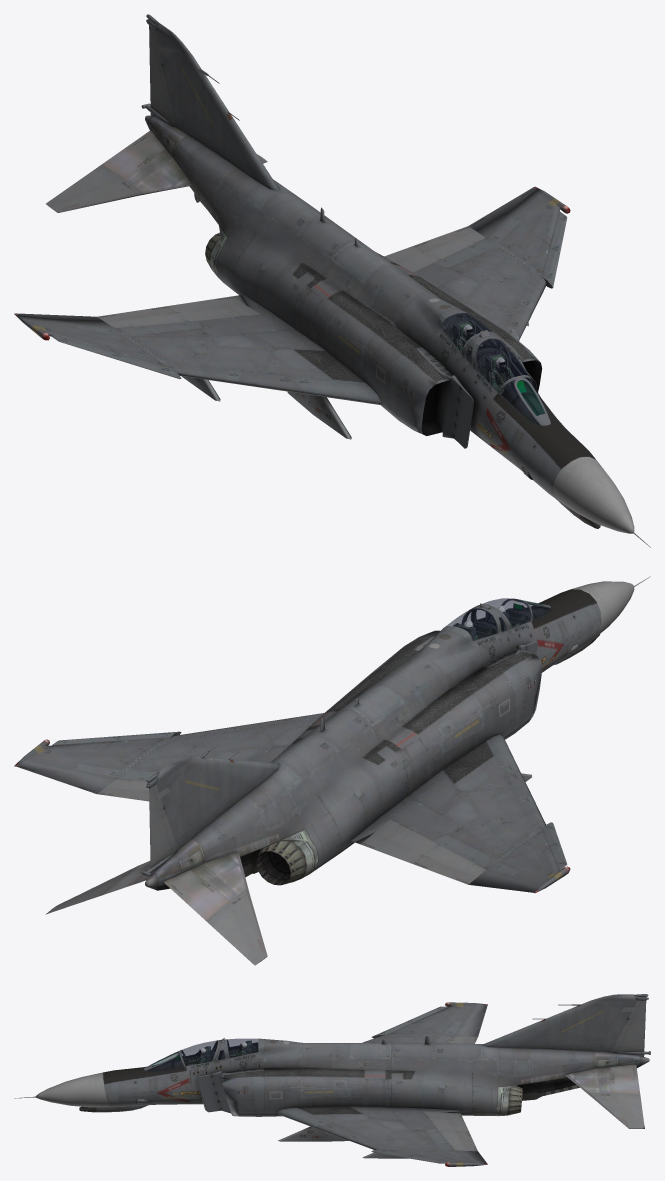
The model's file is F-4E_Phantom_II.dat.obj.
The picture shows the model from 3 angles, top to bottom: view 1: azimuth 30°, elevation 25°; view 2: azimuth 150°, elevation 25°; view 3: azimuth 270°, elevation 25°; orthographic projection. The views are drawn at different scales.
Visible parts, largest first — view 1: F-4E_Phantom_II_LOD0, F-4E_Phantom_II_ElevatorR01, F-4E_Phantom_II_Glass_Canopy02, F-4E_Phantom_II_FlapR01, F-4E_Phantom_II_RudderL01, F-4E_Phantom_II_AileronR01, F-4E_Phantom_II_AileronL01, F-4E_Phantom_II_VoletR01, F-4E_Phantom_II_VoletL01, F-4E_Phantom_II_FlapL01; view 2: F-4E_Phantom_II_LOD0, F-4E_Phantom_II_ElevatorR01, F-4E_Phantom_II_Glass_Canopy02, F-4E_Phantom_II_FlapR01, F-4E_Phantom_II_EngineR01, F-4E_Phantom_II_RudderL01, F-4E_Phantom_II_AileronR01, F-4E_Phantom_II_ElevatorL01, F-4E_Phantom_II_AileronL01, F-4E_Phantom_II_VoletL01, F-4E_Phantom_II_Canopy02; view 3: F-4E_Phantom_II_LOD0, F-4E_Phantom_II_ElevatorL01, F-4E_Phantom_II_Glass_Canopy02, F-4E_Phantom_II_RudderL01, F-4E_Phantom_II_FlapL01, F-4E_Phantom_II_AileronL01, F-4E_Phantom_II_Canopy02, F-4E_Phantom_II_EngineL01, F-4E_Phantom_II_VoletR01, F-4E_Phantom_II_VoletL01, F-4E_Phantom_II_Canopy01, F-4E_Phantom_II_Hook.
Part boxes in pixels (x1=…): F-4E_Phantom_II_LOD0: x1=14, y1=14, x2=650, y2=547; F-4E_Phantom_II_ElevatorR01: x1=46, y1=130, x2=192, y2=212; F-4E_Phantom_II_Glass_Canopy02: x1=441, y1=313, x2=549, y2=424; F-4E_Phantom_II_FlapR01: x1=166, y1=296, x2=261, y2=321; F-4E_Phantom_II_RudderL01: x1=149, y1=25, x2=175, y2=126; F-4E_Phantom_II_AileronR01: x1=97, y1=306, x2=190, y2=328; F-4E_Phantom_II_AileronL01: x1=413, y1=226, x2=485, y2=261; F-4E_Phantom_II_VoletR01: x1=51, y1=334, x2=181, y2=379; F-4E_Phantom_II_VoletL01: x1=541, y1=211, x2=567, y2=288; F-4E_Phantom_II_FlapL01: x1=384, y1=246, x2=437, y2=272; F-4E_Phantom_II_LOD0: x1=14, y1=576, x2=650, y2=893; F-4E_Phantom_II_ElevatorR01: x1=163, y1=851, x2=267, y2=965; F-4E_Phantom_II_Glass_Canopy02: x1=446, y1=598, x2=550, y2=640; F-4E_Phantom_II_FlapR01: x1=361, y1=818, x2=437, y2=863; F-4E_Phantom_II_EngineR01: x1=256, y1=840, x2=306, y2=885; F-4E_Phantom_II_RudderL01: x1=149, y1=783, x2=178, y2=867; F-4E_Phantom_II_AileronR01: x1=413, y1=843, x2=486, y2=884; F-4E_Phantom_II_ElevatorL01: x1=46, y1=861, x2=150, y2=914; F-4E_Phantom_II_AileronL01: x1=97, y1=779, x2=149, y2=801; F-4E_Phantom_II_VoletL01: x1=52, y1=731, x2=181, y2=745; F-4E_Phantom_II_Canopy02: x1=440, y1=607, x2=500, y2=647; F-4E_Phantom_II_LOD0: x1=14, y1=994, x2=650, y2=1166; F-4E_Phantom_II_ElevatorL01: x1=565, y1=1064, x2=644, y2=1128; F-4E_Phantom_II_Glass_Canopy02: x1=147, y1=1038, x2=258, y2=1070; F-4E_Phantom_II_RudderL01: x1=611, y1=1000, x2=646, y2=1051; F-4E_Phantom_II_FlapL01: x1=422, y1=1111, x2=468, y2=1131; F-4E_Phantom_II_AileronL01: x1=438, y1=1130, x2=477, y2=1151; F-4E_Phantom_II_Canopy02: x1=225, y1=1038, x2=265, y2=1061; F-4E_Phantom_II_EngineL01: x1=507, y1=1086, x2=522, y2=1115; F-4E_Phantom_II_VoletR01: x1=371, y1=1006, x2=448, y2=1038; F-4E_Phantom_II_VoletL01: x1=371, y1=1149, x2=447, y2=1163; F-4E_Phantom_II_Canopy01: x1=180, y1=1040, x2=220, y2=1070; F-4E_Phantom_II_Hook: x1=522, y1=1085, x2=579, y2=1100.
Size of the model in its own units: 12.68 by 4.33 by 21.07.
